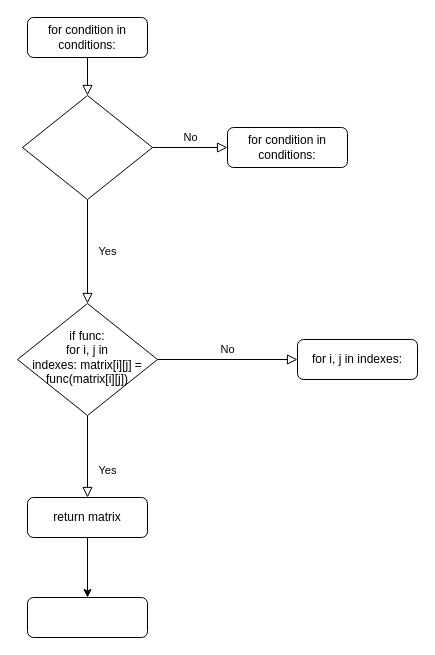
Some shapes in this 435 by 655 pixel diagram are drawn without their labels. The centre of each missing label's shape, as x and y in pixels:
"for row in result:" goes at point 87,617.
"if func_name in not_transform:" goes at point 87,147.
